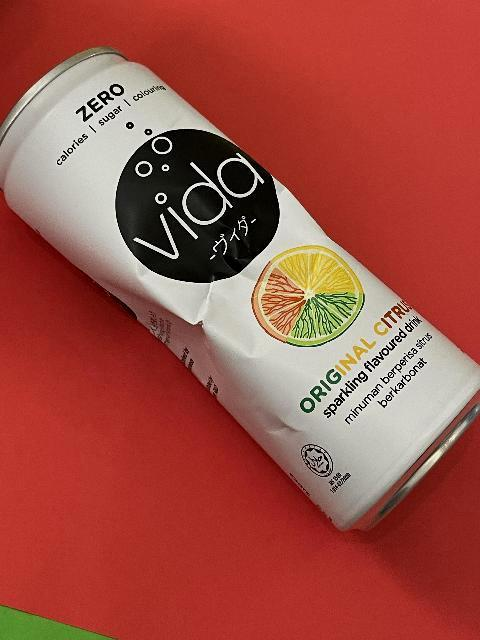drinkcan: (0, 42, 480, 536)
